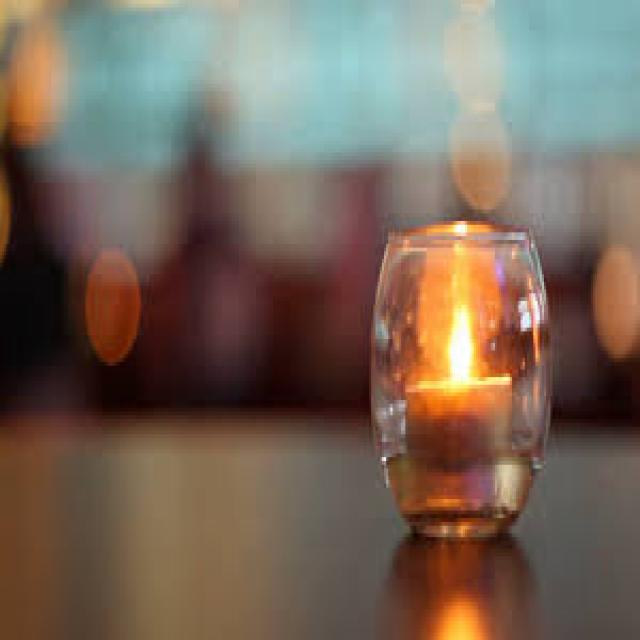fire: (440, 295, 481, 394)
